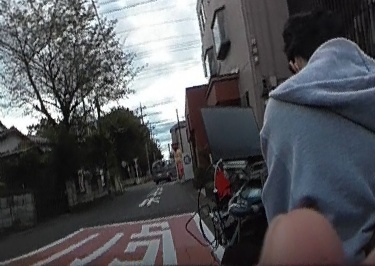person: (240, 15, 375, 266)
